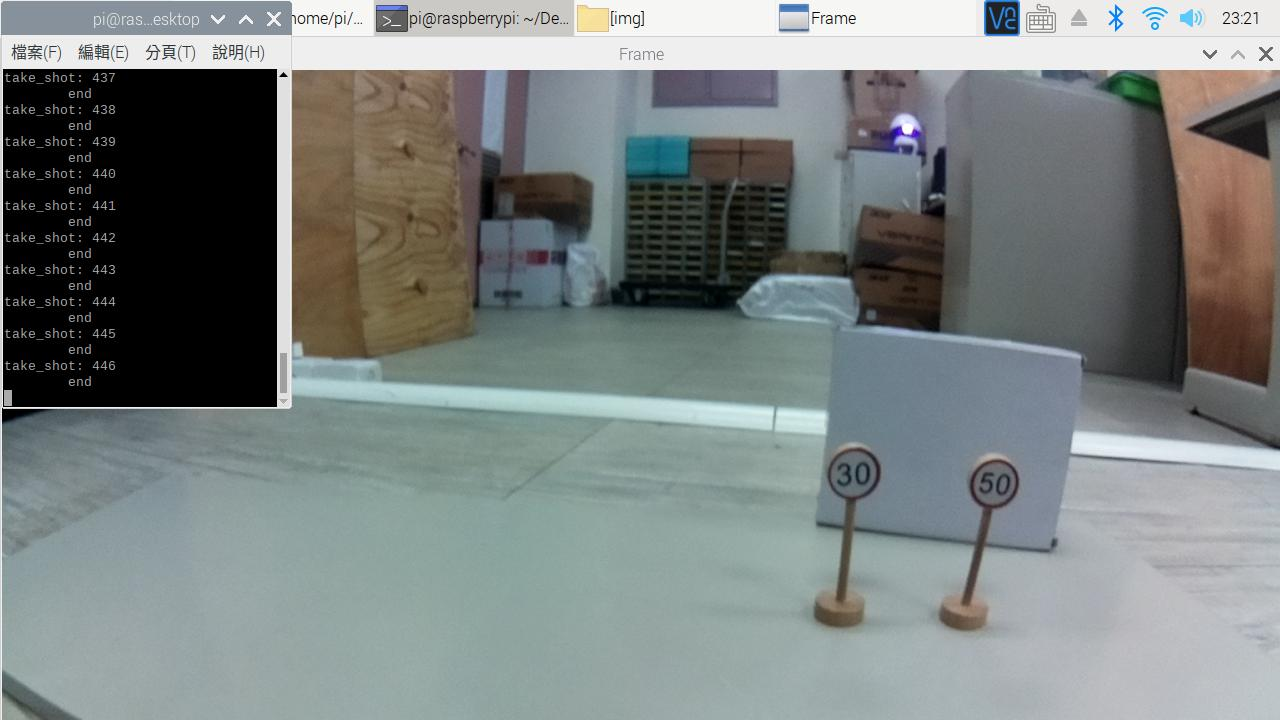Speed30: (818, 434, 895, 508)
Speed50: (960, 442, 1037, 521)
